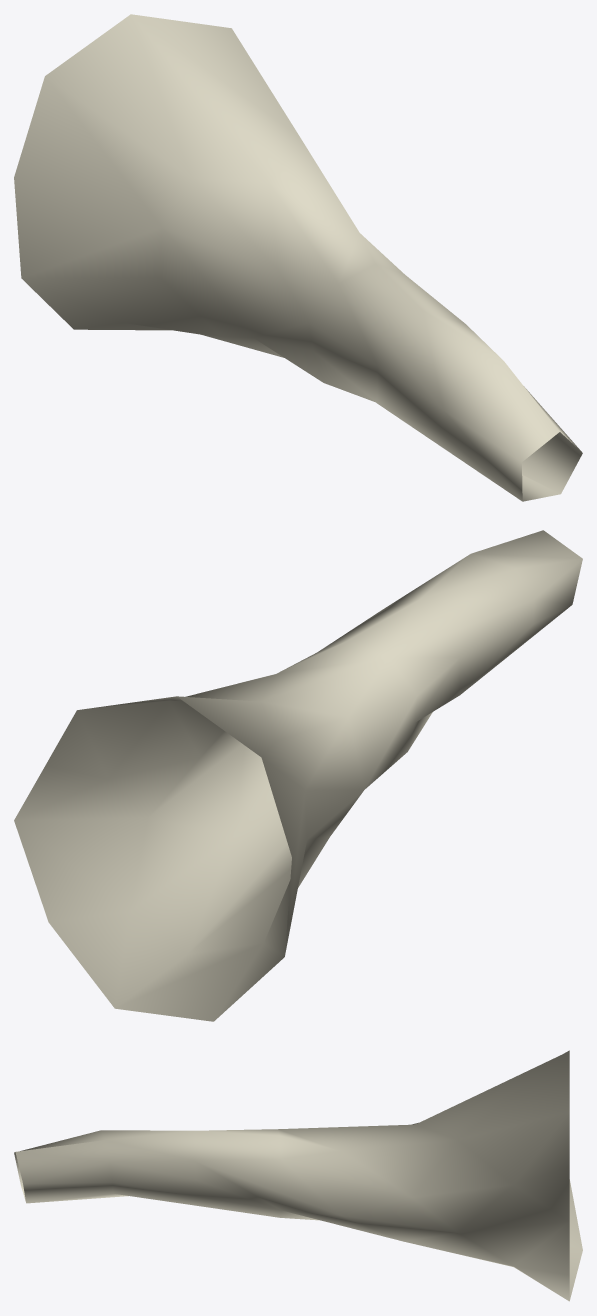
The picture shows the model from 3 angles, top to bottom: view 1: azimuth 30°, elevation 25°; view 2: azimuth 150°, elevation 25°; view 3: azimuth 270°, elevation 25°; orthographic projection. The views are drawn at different scales.
Visible parts, largest first — view 1: Object15; view 2: Object15; view 3: Object15.
Part boxes in pixels (box(x1,y1,x2,y2)): Object15: box(14, 14, 582, 501); Object15: box(14, 530, 582, 1021); Object15: box(14, 1050, 582, 1301).
Size of the model in its own units: 29889 by 33634 by 75548.
